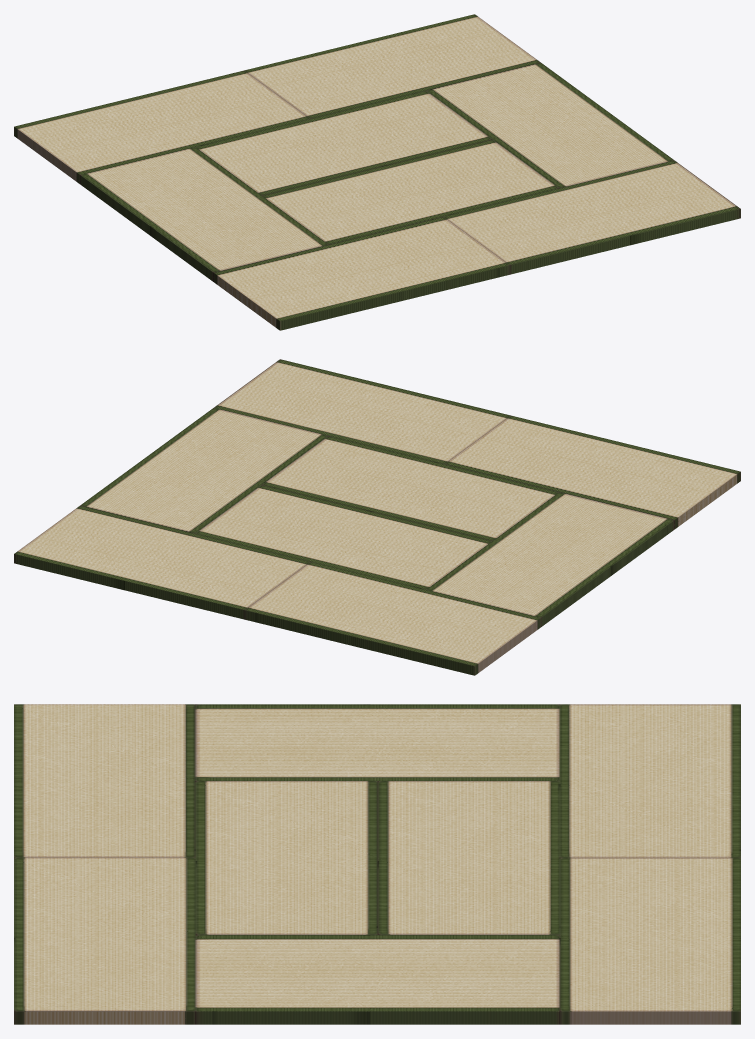
Rendered from tatami.fbx.
The picture shows the model from 3 angles, top to bottom: view 1: azimuth 30°, elevation 25°; view 2: azimuth 150°, elevation 25°; view 3: azimuth 270°, elevation 25°; orthographic projection. The views are drawn at different scales.
Visible parts, largest first — view 1: tatami1; view 2: tatami1; view 3: tatami1.
Boxes of the visible parts, box(x1,y1,x2,y2) form: tatami1: box(14, 14, 740, 330); tatami1: box(14, 359, 740, 675); tatami1: box(14, 704, 740, 1024).
Size of the model in its own units: 278 by 5.43 by 278.
